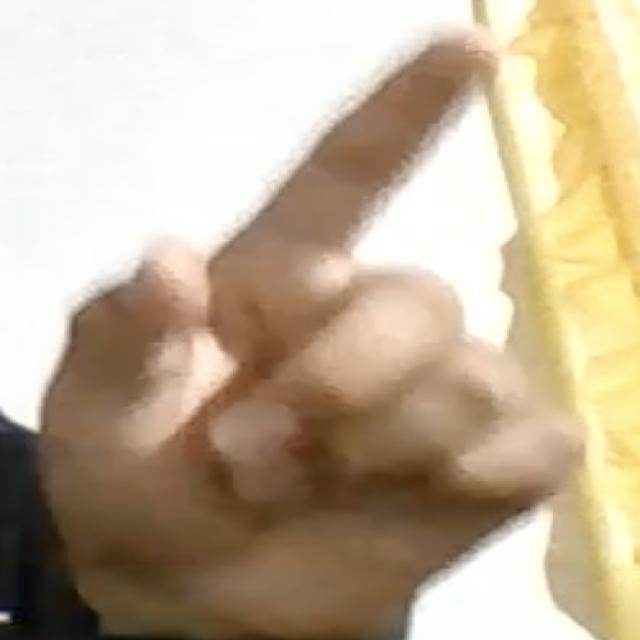Z: (35, 22, 598, 620)
